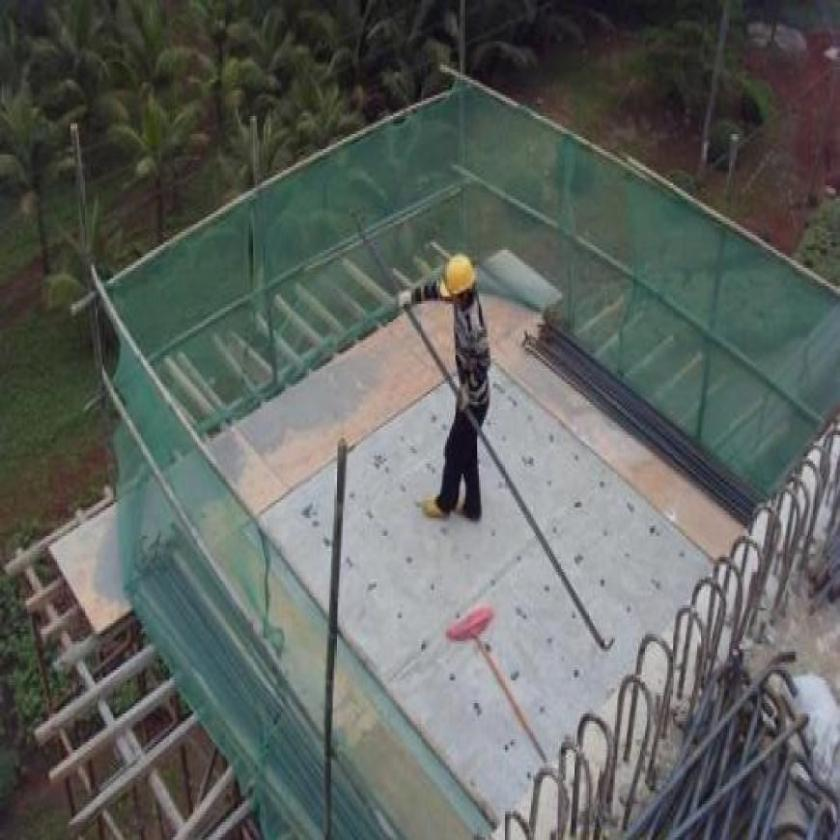Con_casco: (438, 251, 482, 315)
